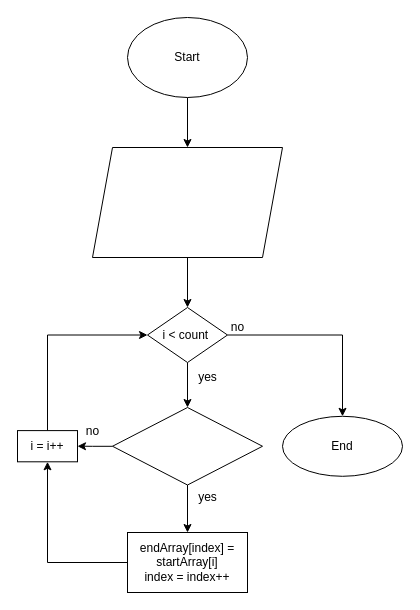
Some shapes in this 420 by 610 pixel diagram are drawn without their labels. The shapes that lost their labels are listed below. From the top down, each one's box as (x1, y1, x2, y2) in pixels, then its label:
(92, 146, 282, 258): count startArray[] = {1 ... count} endArray[] i = 0 count = 0 limit = 3
(112, 406, 262, 485): startArray[i] <= limit
